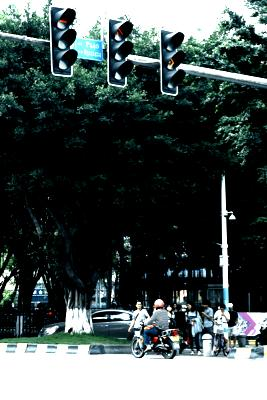International Road Signal Light: (50, 7, 79, 77), (107, 18, 135, 86), (160, 30, 187, 95)
